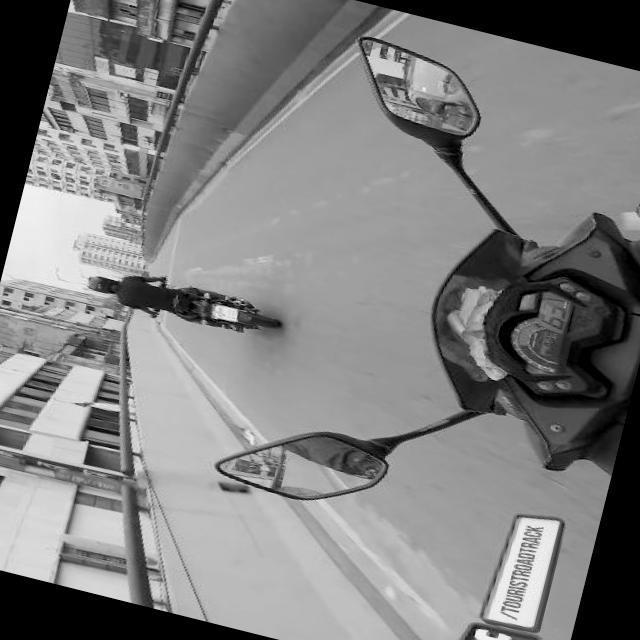motorcycle: (201, 19, 640, 577), (78, 255, 284, 348)
